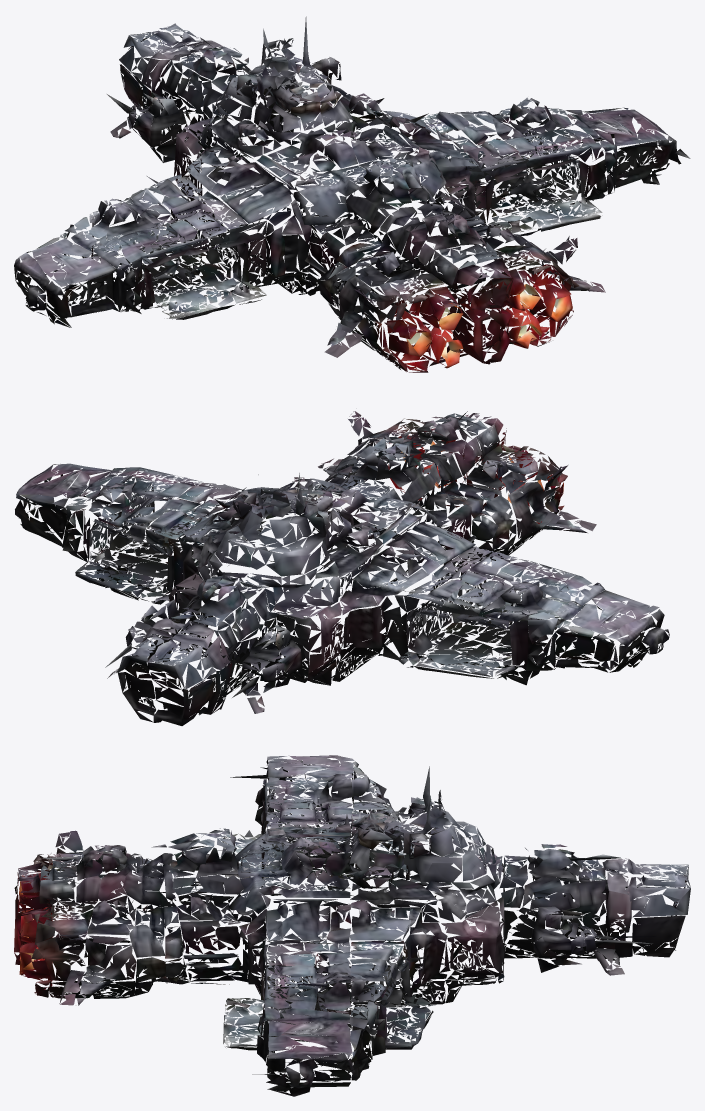
Rendered from boss_battleship_leviathan.glb.
The picture shows the model from 3 angles, top to bottom: view 1: azimuth 30°, elevation 25°; view 2: azimuth 150°, elevation 25°; view 3: azimuth 270°, elevation 25°; orthographic projection.
Visible parts, largest first — view 1: tripo_node_86b4cba0-f7c7-4318-b0b7-e06fda1c2fc5; view 2: tripo_node_86b4cba0-f7c7-4318-b0b7-e06fda1c2fc5; view 3: tripo_node_86b4cba0-f7c7-4318-b0b7-e06fda1c2fc5.
Boxes of the visible parts, x1=… form: tripo_node_86b4cba0-f7c7-4318-b0b7-e06fda1c2fc5: x1=14, y1=16, x2=690, y2=372; tripo_node_86b4cba0-f7c7-4318-b0b7-e06fda1c2fc5: x1=15, y1=411, x2=669, y2=725; tripo_node_86b4cba0-f7c7-4318-b0b7-e06fda1c2fc5: x1=14, y1=755, x2=690, y2=1096.
Bounding box in the file's own units: 15.26 × 4.75 × 14.
1 material, 1 textured.
